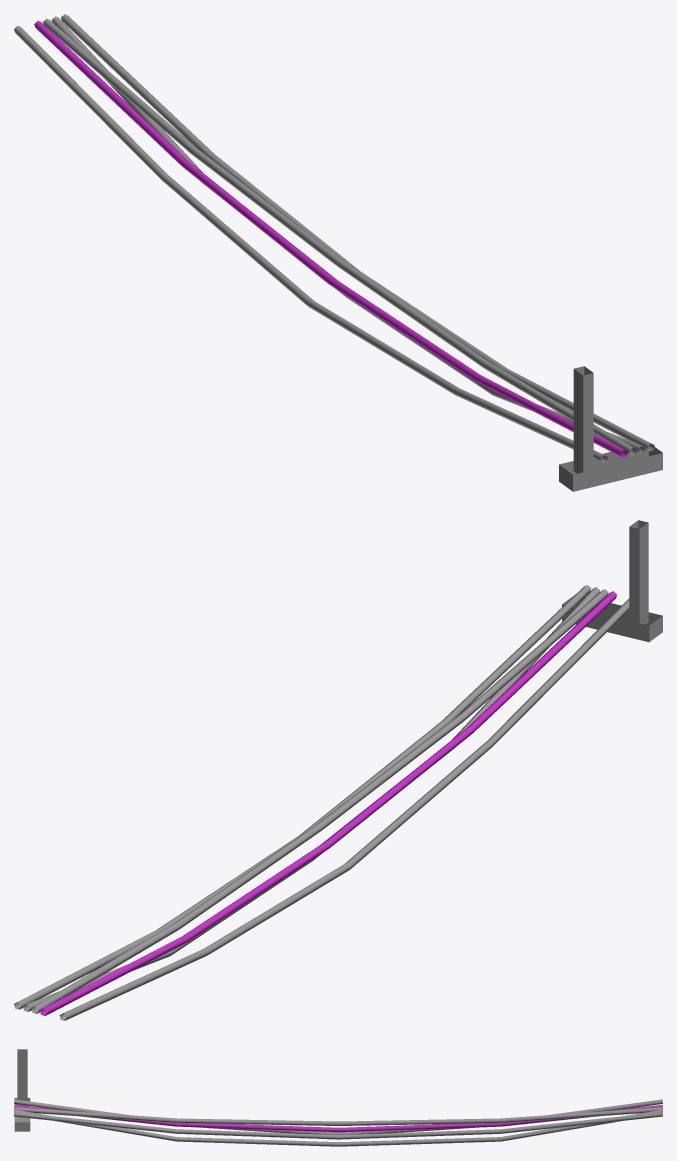
Rendered from light cable.FBX.
3 renders of one model, top to bottom at view 1: azimuth 30°, elevation 25°; view 2: azimuth 150°, elevation 25°; view 3: azimuth 270°, elevation 25°, orthographic. The views are drawn at different scales.
Visible parts, largest first — view 1: cable lght; view 2: cable lght; view 3: cable lght.
Part boxes in pixels (<box>): cable lght: <box>14,14,662,491</box>; cable lght: <box>14,520,662,1020</box>; cable lght: <box>14,1049,662,1146</box>.
Bounding box in the file's own units: 0.3536 × 0.5574 × 4.
